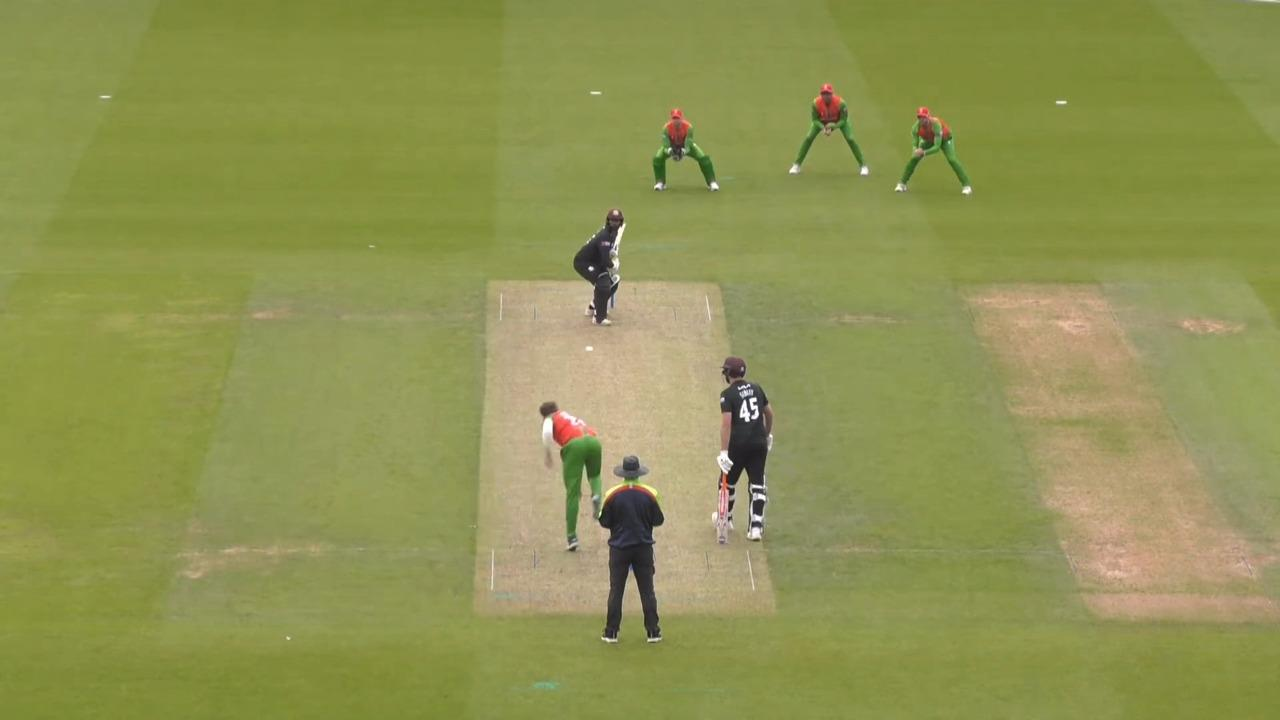sports ball: (586, 346, 593, 351)
